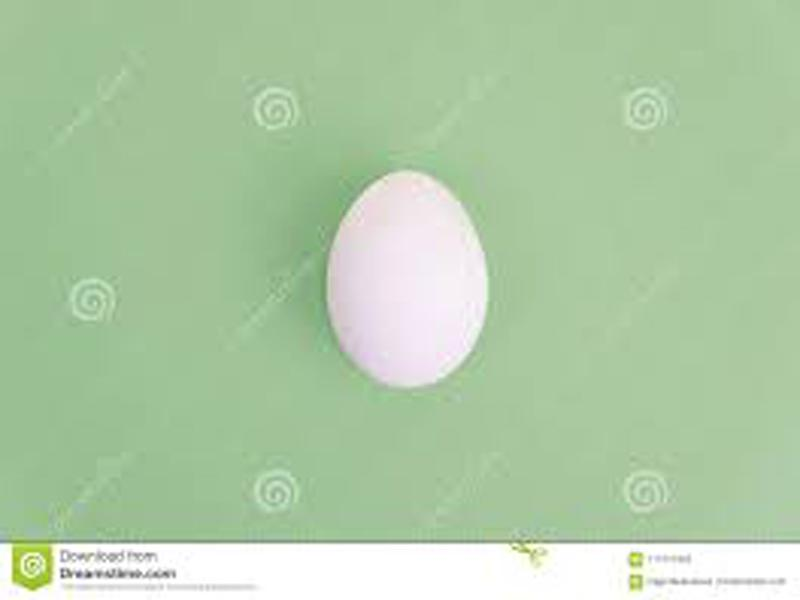Eggs: (324, 173, 485, 386)
